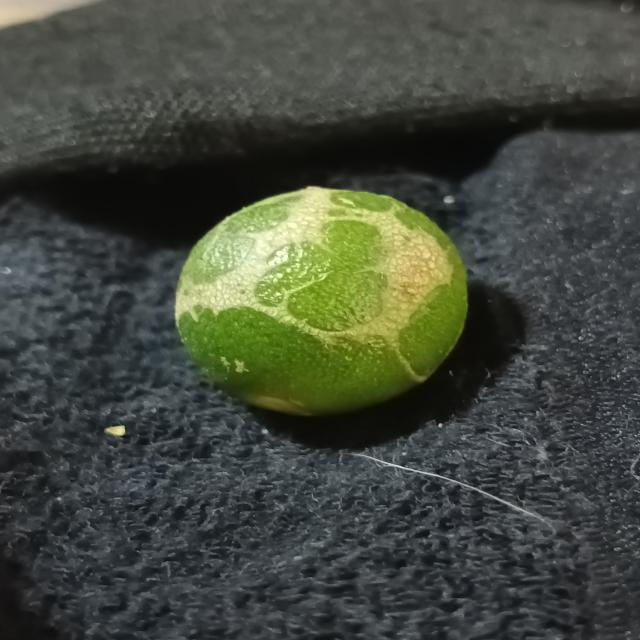thrips: (171, 184, 482, 421)
